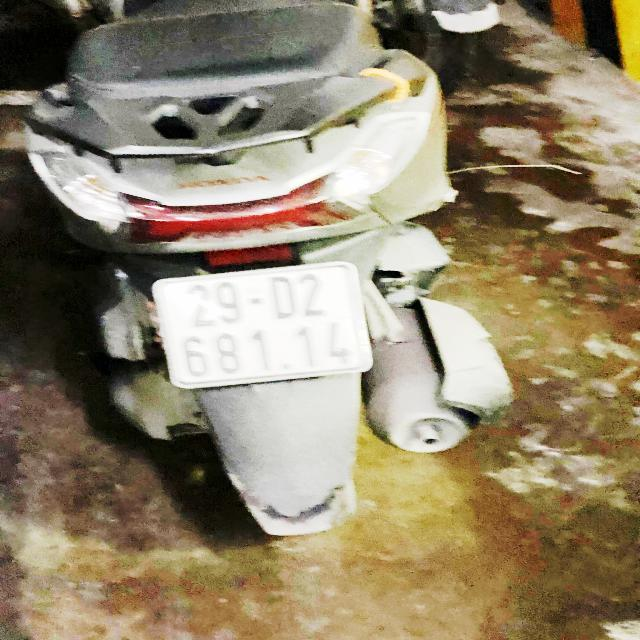license_plate: (153, 260, 376, 387)
